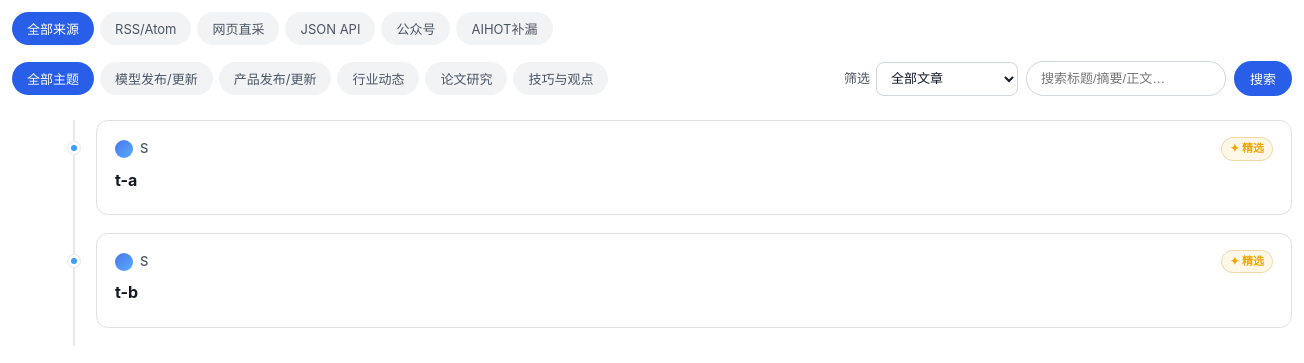
Test case: Feed › submitting the search box refetches with q and resets the list
Expected: the link "t-a" is shown, 115,170 -> 137,190
Type "OpenAI" into the search field with placeholder "搜索标题/摘要/正文…" at (1126, 78), box 1026,61 -> 1226,96
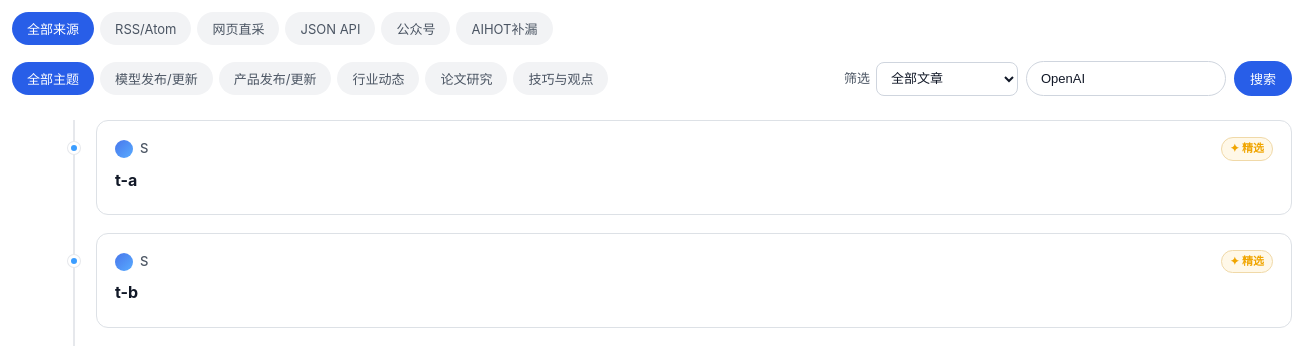
Submit the form, box 1026,61 -> 1292,96
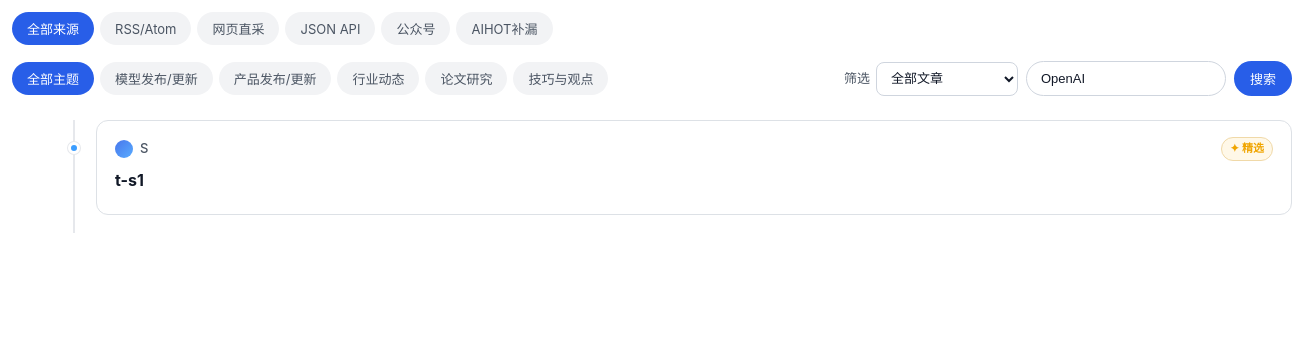
Expected: the link "t-s1" is shown, 115,170 -> 144,190
Expected: the link "t-a" is gone
